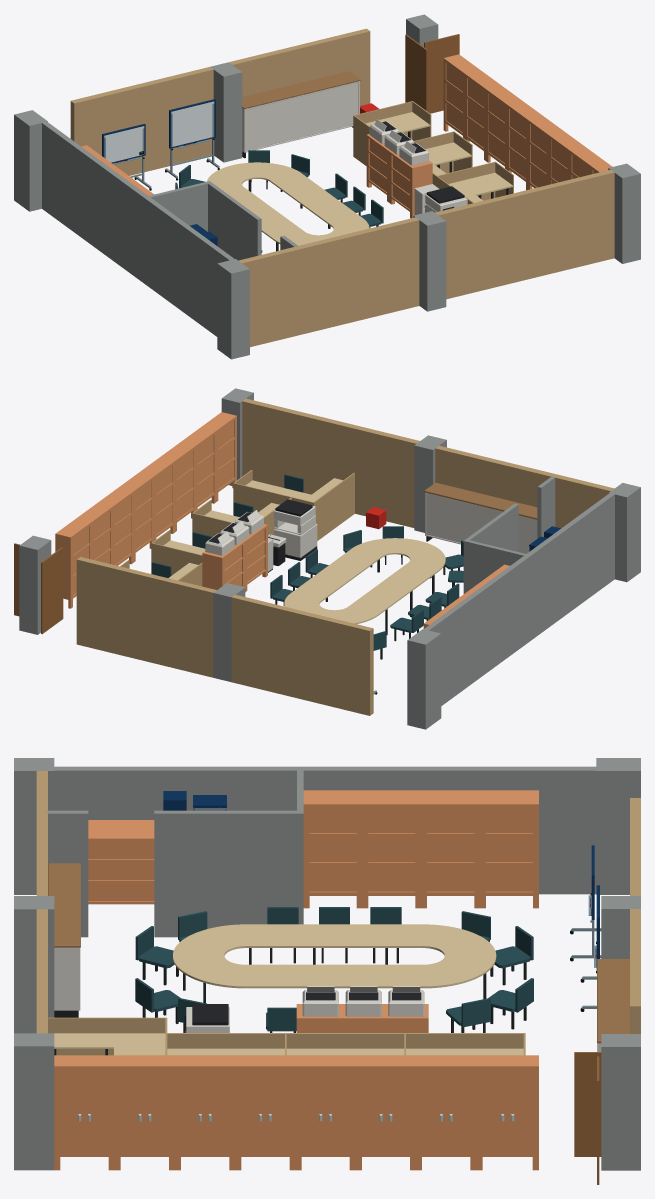
File: whole-plan.dae
3 views of the same model, one above another, from view 1: azimuth 30°, elevation 25°; view 2: azimuth 150°, elevation 25°; view 3: azimuth 270°, elevation 25° (orthographic). The views are drawn at different scales.
Parts seen in each view (by area): view 1: 水泥牆_W1, 輕隔間_L4, 輕隔間_L5, 輕隔間_L1, 櫃子_NC1___新作系統半高櫃, 桌子_T2___tabletop, 輕隔間_L2, 水泥牆_W2, 辦公屏風_L3, 柱_C4, 柱_C2, 柱_C1 (+20 smaller); view 2: 水泥牆_W1, 輕隔間_L5, 輕隔間_L1, 輕隔間_L2, 桌子_T2___tabletop, 輕隔間_L4, 辦公屏風_L3, 櫃子_NC6___新做系統半高櫃, 柱_C1, 水泥牆_W2, 柱_C4, 柱_C3 (+18 smaller); view 3: 水泥牆_W1, 水泥牆_W2, 桌子_T2___tabletop, 辦公屏風_L3, 高櫃_CB5___bookcaseClosedDoors_Clone_, 高櫃_CB7___bookcaseClosedDoors_Clone_, 高櫃_CB3___新做系統高櫃___bookcaseClosedDoors_Clone_, 高櫃_CB1___bookcaseClosedDoors_Clone_, 櫃子_NC5___新做茶水櫃___bookcaseClosedDoors_Clone_, 柱_C6, 柱_C3, 柱_C1 (+47 smaller).
Boxes of the visible parts, <box> form: 水泥牆_W1: <box>42,122,234,336</box>; 輕隔間_L4: <box>238,217,419,347</box>; 輕隔間_L5: <box>435,169,614,299</box>; 輕隔間_L1: <box>70,67,213,175</box>; 櫃子_NC1___新作系統半高櫃: <box>242,71,360,158</box>; 桌子_T2___tabletop: <box>207,162,369,245</box>; 輕隔間_L2: <box>229,28,370,105</box>; 水泥牆_W2: <box>149,181,261,260</box>; 辦公屏風_L3: <box>353,101,513,204</box>; 柱_C4: <box>217,259,249,359</box>; 柱_C2: <box>210,62,242,162</box>; 柱_C1: <box>14,110,47,211</box>; 水泥牆_W1: <box>424,493,614,705</box>; 輕隔間_L5: <box>242,398,419,527</box>; 輕隔間_L1: <box>231,594,373,715</box>; 輕隔間_L2: <box>76,557,216,677</box>; 桌子_T2___tabletop: <box>284,538,445,624</box>; 輕隔間_L4: <box>435,445,614,528</box>; 辦公屏風_L3: <box>120,470,354,586</box>; 櫃子_NC6___新做系統半高櫃: <box>424,482,537,553</box>; 柱_C1: <box>407,629,441,729</box>; 水泥牆_W2: <box>463,503,525,593</box>; 柱_C4: <box>608,483,640,582</box>; 柱_C3: <box>19,535,51,634</box>; 水泥牆_W1: <box>54,766,596,894</box>; 水泥牆_W2: <box>154,770,303,937</box>; 桌子_T2___tabletop: <box>173,924,496,988</box>; 辦公屏風_L3: <box>48,1017,525,1055</box>; 高櫃_CB5___bookcaseClosedDoors_Clone_: <box>362,790,421,908</box>; 高櫃_CB7___bookcaseClosedDoors_Clone_: <box>303,790,362,908</box>; 高櫃_CB3___新做系統高櫃___bookcaseClosedDoors_Clone_: <box>421,790,479,908</box>; 高櫃_CB1___bookcaseClosedDoors_Clone_: <box>480,790,538,908</box>; 櫃子_NC5___新做茶水櫃___bookcaseClosedDoors_Clone_: <box>88,820,154,904</box>; 柱_C6: <box>14,1033,54,1170</box>; 柱_C3: <box>601,1034,640,1170</box>; 柱_C1: <box>596,758,640,894</box>.
Bounding box in the file's own units: 13123 × 11477 × 2500.
